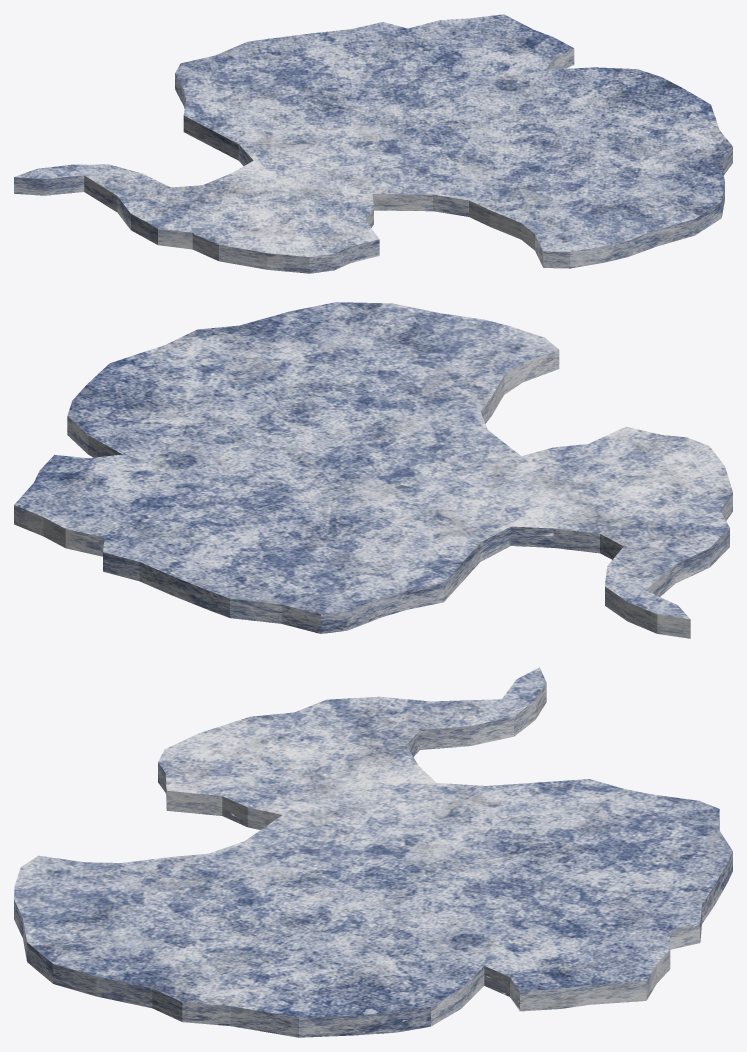
The model's file is map.glb.
3 renders of one model, top to bottom at view 1: azimuth 30°, elevation 25°; view 2: azimuth 150°, elevation 25°; view 3: azimuth 270°, elevation 25°, orthographic. The views are drawn at different scales.
Visible parts, largest first — view 1: Antarctique.001; view 2: Antarctique.001; view 3: Antarctique.001.
Part boxes in pixels (left/top/right/bottom): Antarctique.001: left=14, top=14, right=732, bottom=273; Antarctique.001: left=14, top=302, right=732, bottom=638; Antarctique.001: left=14, top=667, right=732, bottom=1037.
Bounding box in the file's own units: 22.45 × 0.5974 × 19.46.
1 material, 1 textured.
